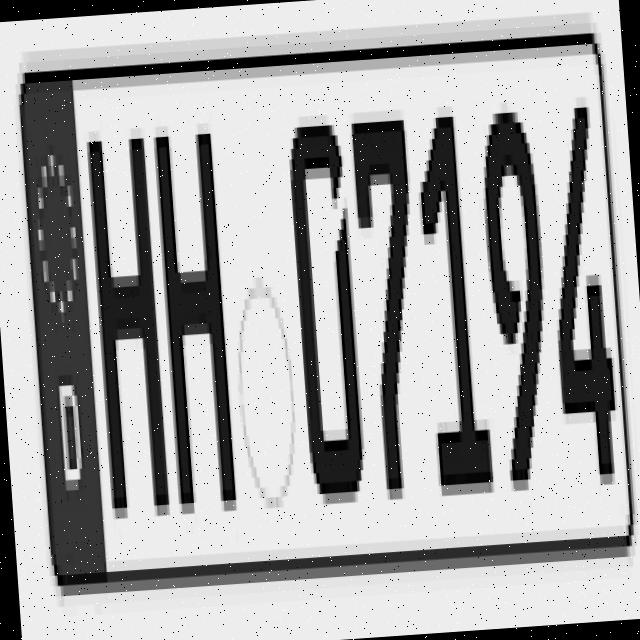Allemagne: (21, 76, 108, 586)
EU: (17, 35, 634, 588)
